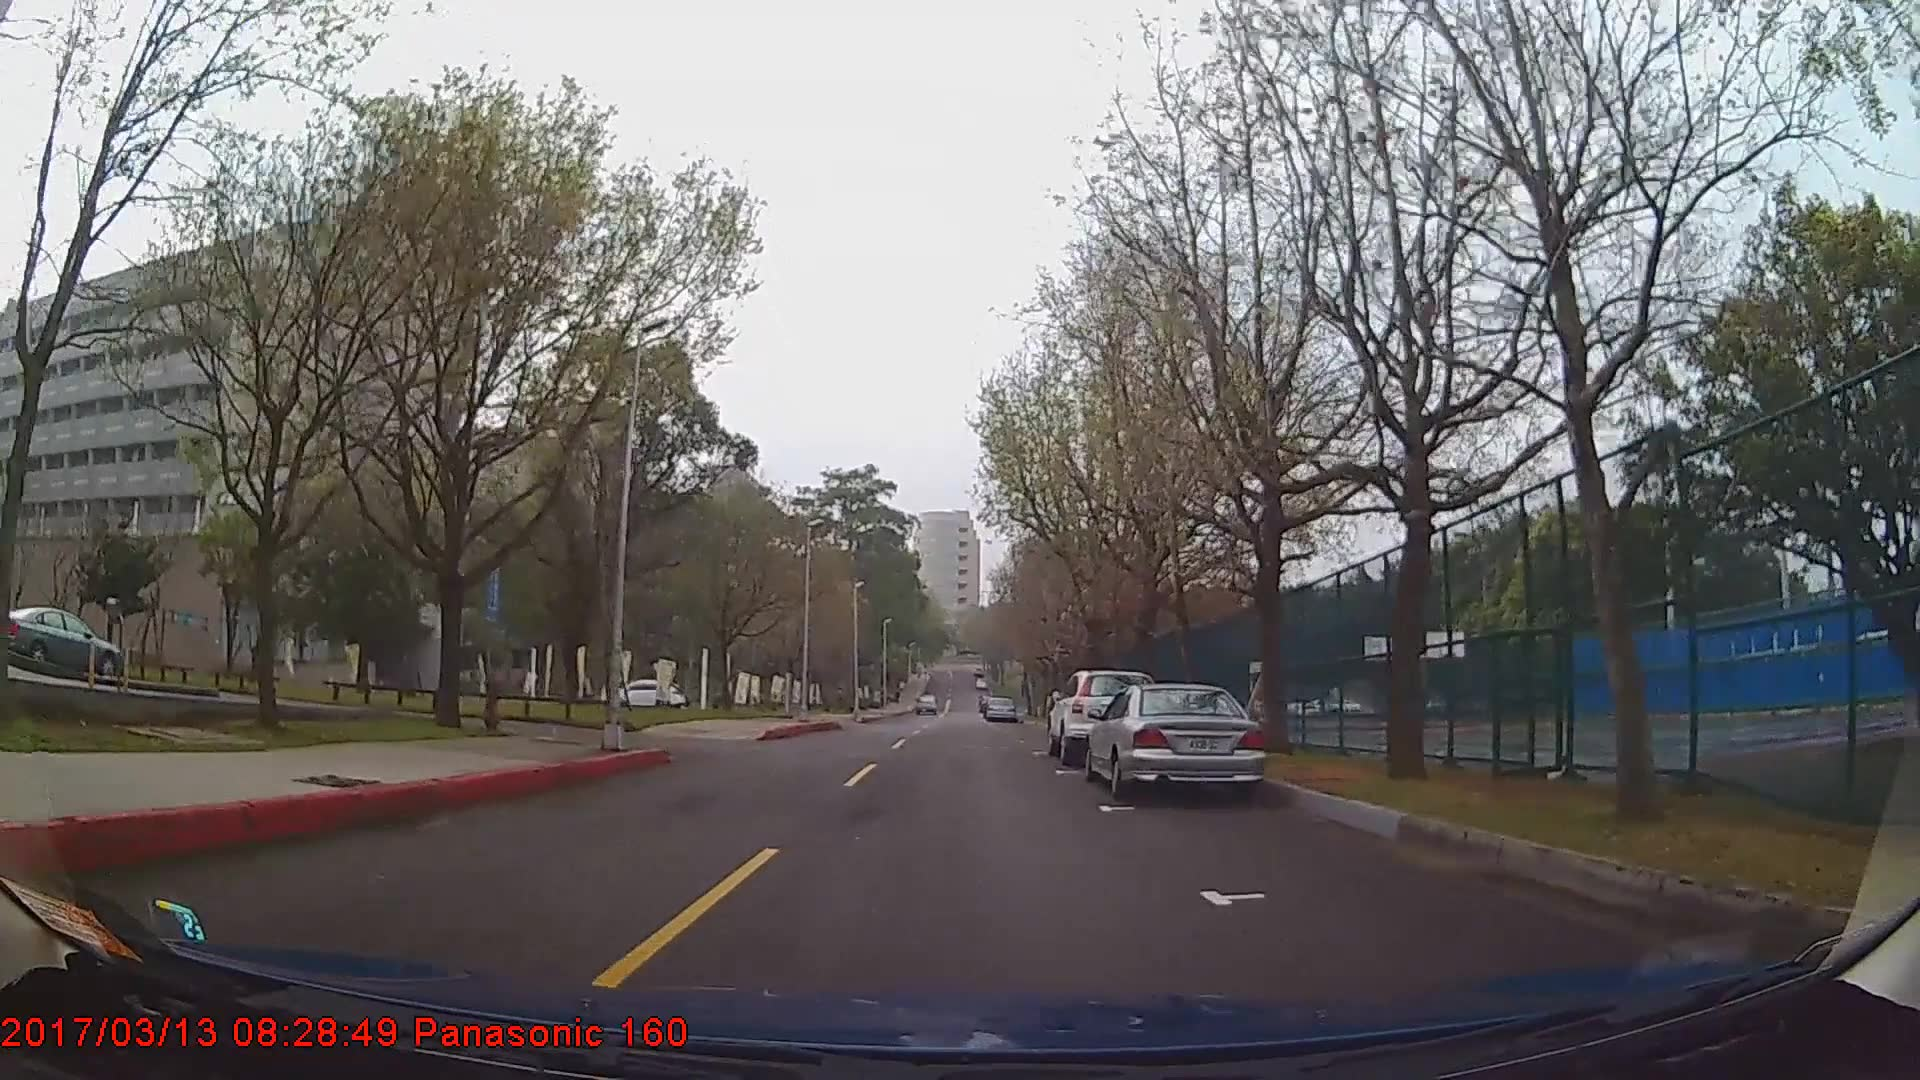vehicle: (1085, 683, 1269, 800), (1046, 669, 1151, 766), (0, 605, 123, 675), (603, 676, 687, 708), (982, 692, 1014, 720)
